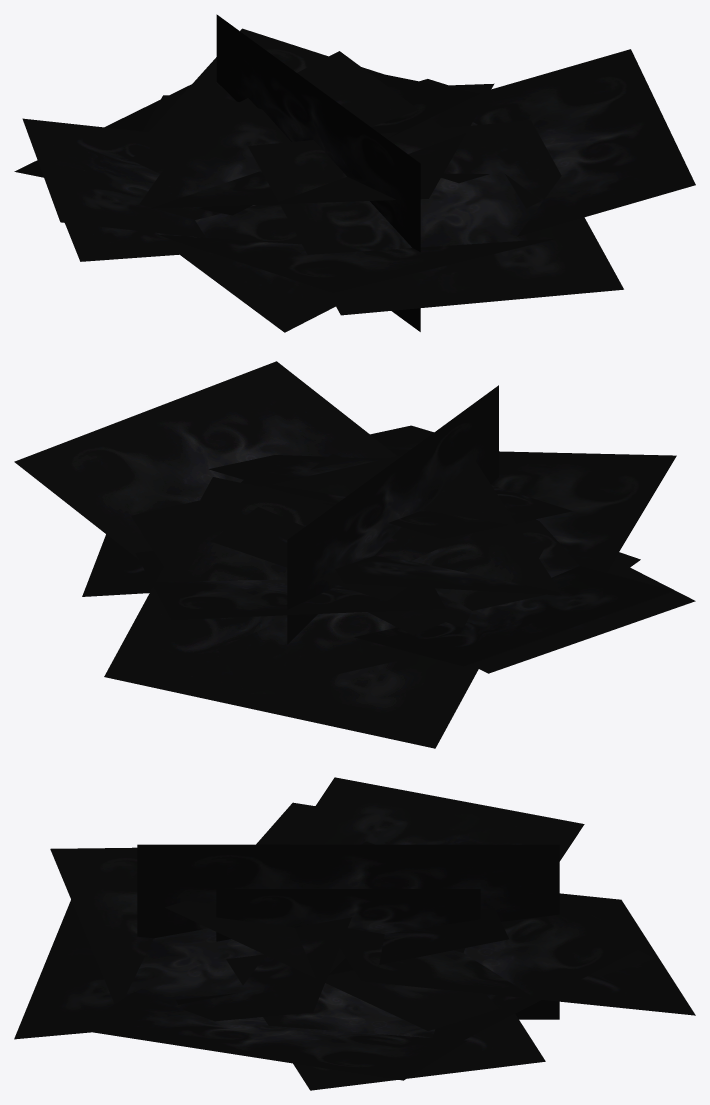
File: hfjord_fog_01.obj
3 renders of one model, top to bottom at view 1: azimuth 30°, elevation 25°; view 2: azimuth 150°, elevation 25°; view 3: azimuth 270°, elevation 25°, orthographic. The views are drawn at different scales.
Parts seen in each view (by area): view 1: hfjord_fog_01; view 2: hfjord_fog_01; view 3: hfjord_fog_01.
Boxes of the visible parts, x1=… form: hfjord_fog_01: x1=14, y1=14, x2=695, y2=332; hfjord_fog_01: x1=14, y1=361, x2=695, y2=748; hfjord_fog_01: x1=14, y1=777, x2=695, y2=1090.
Size of the model in its own units: 120 by 32.16 by 114.
Materials: 1 (1 with a texture image).
